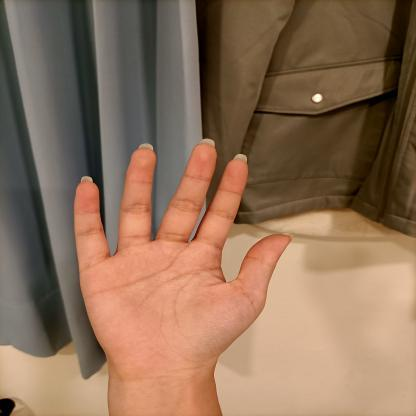bare_hand: (62, 133, 296, 380)
